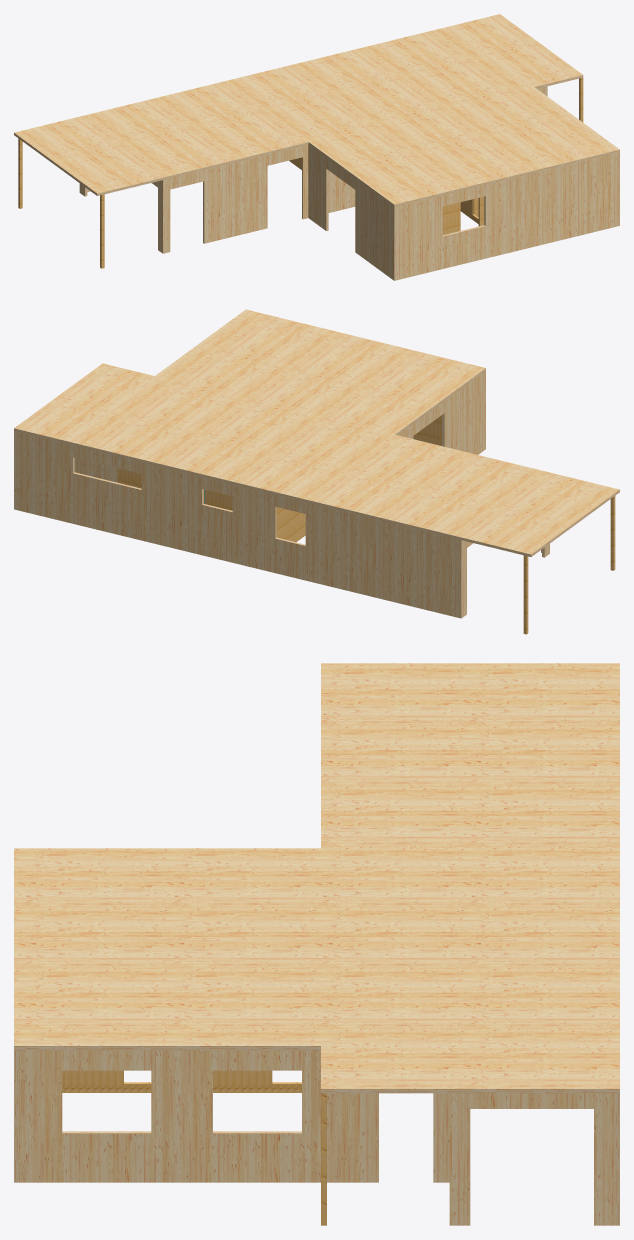
Rendered from MON_DOM_2.glb.
3 renders of one model, top to bottom at view 1: azimuth 30°, elevation 25°; view 2: azimuth 150°, elevation 25°; view 3: azimuth 270°, elevation 25°, orthographic. The views are drawn at different scales.
Visible parts, largest first — view 1: HlzSys 100/0 Brd:0_20, HlzSys 2/0 Brd:1, HlzSys 4/0 Brd:1, HlzSys 3/0 Brd:1, HlzSys 7/0 Brd:1, HlzSys 5/0 Brd:1, HlzSys 6/0 Brd:1, HlzSys 1/0 Brd:1, HlzSys 100/0 Brd:0_30, HlzSys 100/0 Brd:0_34, HlzSys 100/0 Brd:0_64, HlzSys 100/0 Brd:0_18 (+6 smaller); view 2: HlzSys 100/0 Brd:0_12, HlzSys 2/0 Brd:1, HlzSys 3/0 Brd:1, HlzSys 4/0 Brd:1, HlzSys 7/0 Brd:1, HlzSys 1/0 Brd:1, HlzSys 5/0 Brd:1, HlzSys 6/0 Brd:1, HlzSys 100/0 Brd:0_34, HlzSys 100/0 Brd:0_64, HlzSys 100/0 Brd:0_40, HlzSys 100/0 Brd:0_24 (+2 smaller); view 3: HlzSys 2/0 Brd:1, HlzSys 3/0 Brd:1, HlzSys 4/0 Brd:1, HlzSys 100/0 Brd:0_22, HlzSys 1/0 Brd:1, HlzSys 5/0 Brd:1, HlzSys 7/0 Brd:1, HlzSys 6/0 Brd:1, HlzSys 100/0 Brd:0_64, HlzSys 100/0 Brd:0_56, HlzSys 100/0 Brd:0_26, HlzSys 100/0 Brd:0_32 (+3 smaller).
Boxes of the visible parts, <box> form: HlzSys 100/0 Brd:0_20: <box>396,152,619,280</box>; HlzSys 2/0 Brd:1: <box>360,31,598,173</box>; HlzSys 4/0 Brd:1: <box>223,65,460,206</box>; HlzSys 3/0 Brd:1: <box>292,48,529,190</box>; HlzSys 7/0 Brd:1: <box>14,115,167,195</box>; HlzSys 5/0 Brd:1: <box>154,82,305,161</box>; HlzSys 6/0 Brd:1: <box>84,98,236,178</box>; HlzSys 1/0 Brd:1: <box>430,14,583,91</box>; HlzSys 100/0 Brd:0_30: <box>203,154,267,243</box>; HlzSys 100/0 Brd:0_34: <box>355,179,396,280</box>; HlzSys 100/0 Brd:0_64: <box>512,86,619,156</box>; HlzSys 100/0 Brd:0_18: <box>308,144,328,230</box>; HlzSys 100/0 Brd:0_12: <box>14,431,462,618</box>; HlzSys 2/0 Brd:1: <box>89,315,341,466</box>; HlzSys 3/0 Brd:1: <box>161,333,415,484</box>; HlzSys 4/0 Brd:1: <box>235,351,485,502</box>; HlzSys 7/0 Brd:1: <box>456,471,619,556</box>; HlzSys 1/0 Brd:1: <box>14,363,176,448</box>; HlzSys 5/0 Brd:1: <box>310,435,471,520</box>; HlzSys 6/0 Brd:1: <box>382,453,544,538</box>; HlzSys 100/0 Brd:0_34: <box>442,371,485,454</box>; HlzSys 100/0 Brd:0_64: <box>154,309,268,381</box>; HlzSys 100/0 Brd:0_40: <box>276,507,305,542</box>; HlzSys 100/0 Brd:0_24: <box>74,458,117,482</box>; HlzSys 2/0 Brd:1: <box>14,966,619,1027</box>; HlzSys 3/0 Brd:1: <box>14,906,619,967</box>; HlzSys 4/0 Brd:1: <box>14,846,619,905</box>; HlzSys 100/0 Brd:0_22: <box>19,1050,378,1182</box>; HlzSys 1/0 Brd:1: <box>321,1027,619,1093</box>; HlzSys 5/0 Brd:1: <box>321,784,619,846</box>; HlzSys 7/0 Brd:1: <box>321,663,619,724</box>; HlzSys 6/0 Brd:1: <box>321,724,619,784</box>; HlzSys 100/0 Brd:0_64: <box>14,1027,323,1050</box>; HlzSys 100/0 Brd:0_56: <box>62,1070,301,1092</box>; HlzSys 100/0 Brd:0_26: <box>449,1093,470,1225</box>; HlzSys 100/0 Brd:0_32: <box>594,1093,614,1225</box>.
Bounding box in the file's own units: 20.35 × 3.05 × 12.25.
12 materials, 10 textured.
